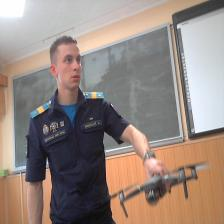drone: (111, 160, 213, 224)
